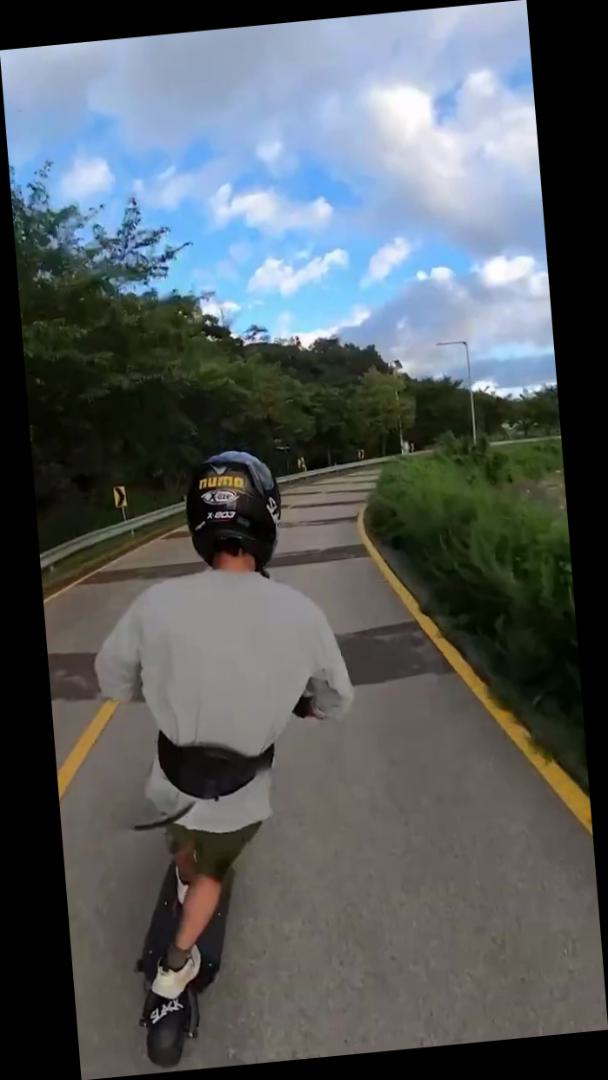helmet: (72, 437, 387, 1077)
